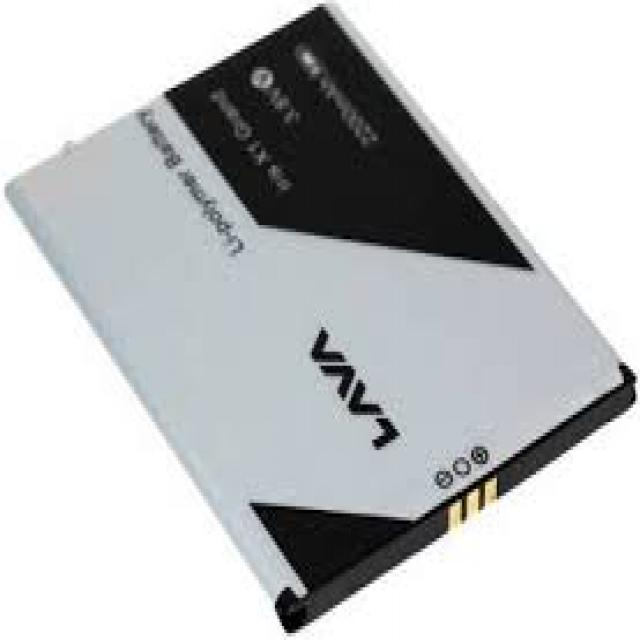non-organic waste: (9, 1, 628, 633)
